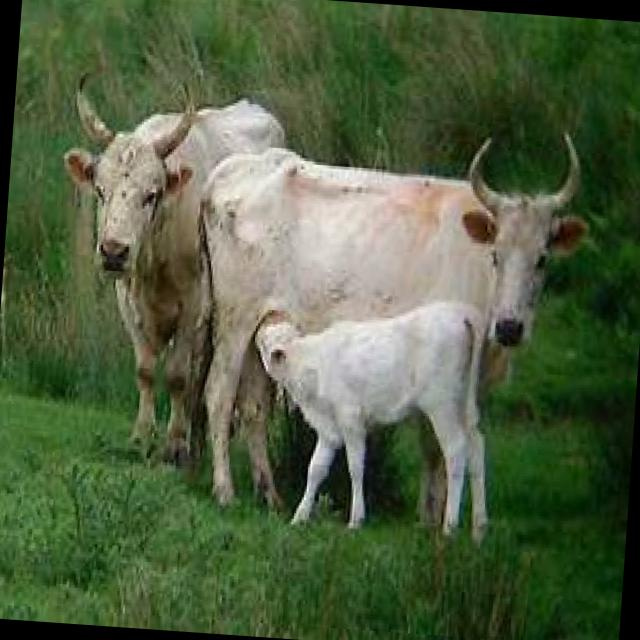animal: (182, 101, 588, 528), (47, 69, 291, 472), (244, 290, 500, 542)
